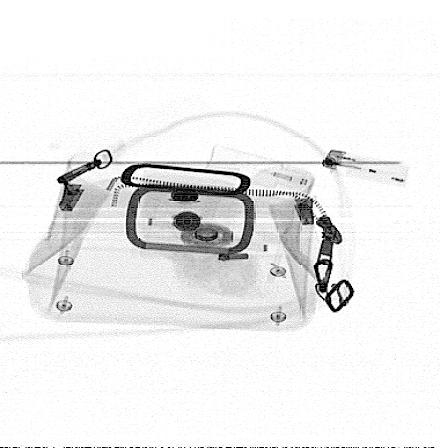Lighter: (321, 149, 409, 188)
